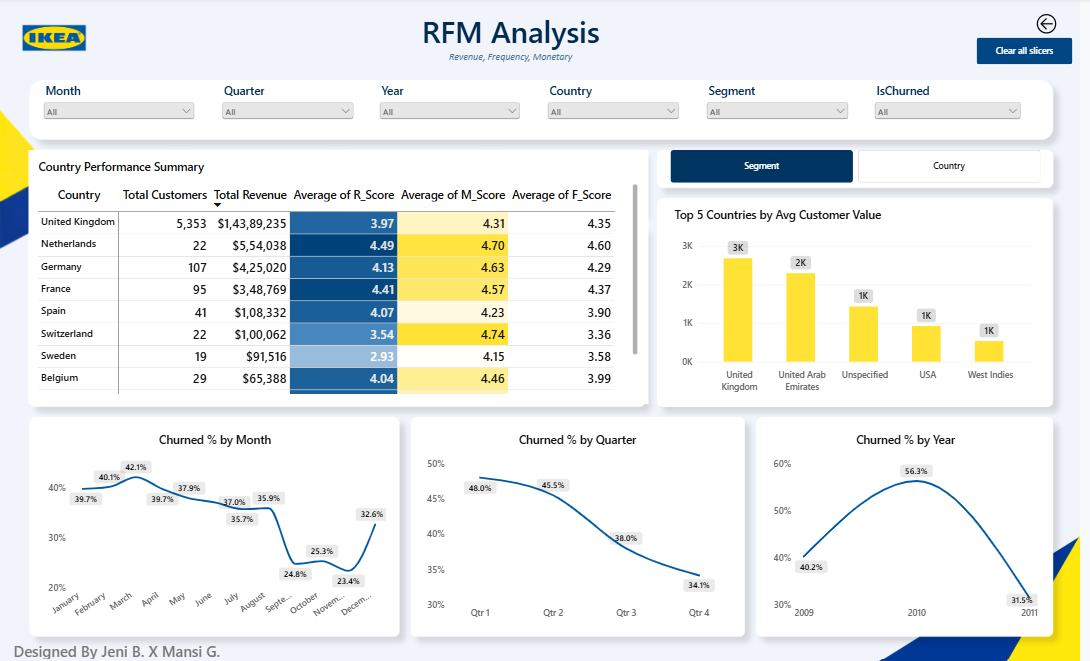

Layout of this report page (visuals, bound fields, positions):
{"tool":"powerbi","page":{"name":"RFM Analysis","canvas":[1940,1098],"ordinal":2},"visuals":[{"type":"slicer","fields":{"Values":["Sheet1.InvoiceDate.Variation.Date Hierarchy.Month"]},"box":[162.7,138.8,253.6,74.2],"z":0},{"type":"slicer","fields":{"Values":["Sheet1.InvoiceDate.Variation.Date Hierarchy.Year"]},"box":[706.8,138.8,236.9,74.2],"z":1000},{"type":"slicer","fields":{"Values":["Sheet1.InvoiceDate.Variation.Date Hierarchy.Quarter"]},"box":[450.3,138.8,222.5,74.2],"z":2000},{"type":"lineChart","fields":{"Category":["Sheet1.InvoiceMonth.Variation.Date Hierarchy.Year","Sheet1.InvoiceMonth.Variation.Date Hierarchy.Quarter","Sheet1.InvoiceMonth.Variation.Date Hierarchy.Month"],"Y":["Sheet1.Churned %"]},"box":[152.8,688.2,584.1,337.8],"z":2000,"group":"g1"},{"type":"slicer","fields":{"Values":["Sheet1.IsChurned"]},"box":[1507.3,138.8,246.4,74.2],"z":3000},{"type":"lineChart","fields":{"Category":["Sheet1.InvoiceMonth.Variation.Date Hierarchy.Quarter"],"Y":["Sheet1.Churned %"]},"box":[770.4,688.2,519.4,337.8],"z":3000,"group":"g1"},{"type":"slicer","fields":{"Values":["Sheet1.Segment"]},"box":[1234.1,138.8,239.3,74.2],"z":4000},{"type":"lineChart","fields":{"Category":["Sheet1.InvoiceMonth.Variation.Date Hierarchy.Year"],"Y":["Sheet1.Churned %"]},"box":[1330.5,688.2,459.6,337.8],"z":4000,"group":"g1"},{"type":"slicer","fields":{"Values":["Sheet1.Country"]},"box":[977.6,138.8,222.5,74.2],"z":5000},{"type":"group","id":"g1","title":"Revenue","box":[152.8,325,1637.3,701],"z":7000},{"type":"bookmarkNavigator","box":[1181.3,247.4,599.1,53.4],"z":8000},{"type":"textbox","box":[119.6,1040.8,373.2,43.1],"z":9000},{"type":"image","box":[105.3,21.5,160.3,88.5],"z":10000},{"type":"textbox","box":[646,21.5,555.1,88.5],"z":11000},{"type":"actionButton","box":[1739.4,21.5,100,40],"z":12000},{"type":"actionButton","box":[1676.1,65.5,155.2,43.7],"z":13000},{"type":"pivotTable","title":"Country Performance Summary","fields":{"Rows":["Sheet1.Country"],"Values":["Sheet1.Total Customers","Sheet1.Total Revenue","Avg(Sheet1.R_Score)","Avg(Sheet1.M_Score)","Avg(Sheet1.F_Score)"]},"box":[142.4,247.3,1001.7,409.7],"z":14000},{"type":"columnChart","title":"Top 5 Countries by Avg Customer Value","fields":{"Category":["Sheet1.Country"],"Y":["Sheet1.Avg Customer Value"]},"box":[1171.5,324.7,609.2,332.8],"z":17002},{"type":"columnChart","title":"Segment by Avg Customer Value","fields":{"Category":["Sheet1.Segment"],"Y":["Sheet1.Avg Customer Value"]},"box":[1172.5,325,609.2,332.8],"z":17002,"group":"g1"}]}

Visuals, with their boxes on the page's 1940x1098 design canvas (x1, y1, x2, y2). These are canvas units, not pixel positions in the 1090x661 screenshot, which may show the page scaled, cropped or inside an application window:
slicer - Sheet1.InvoiceDate.Variation.Date Hierarchy.Month: (x1=163, y1=139, x2=416, y2=213)
slicer - Sheet1.InvoiceDate.Variation.Date Hierarchy.Year: (x1=707, y1=139, x2=944, y2=213)
slicer - Sheet1.InvoiceDate.Variation.Date Hierarchy.Quarter: (x1=450, y1=139, x2=673, y2=213)
lineChart - Sheet1.InvoiceMonth.Variation.Date Hierarchy.Year x Sheet1.InvoiceMonth.Variation.Date Hierarchy.Quarter: (x1=153, y1=688, x2=737, y2=1026)
slicer - Sheet1.IsChurned: (x1=1507, y1=139, x2=1754, y2=213)
lineChart - Sheet1.InvoiceMonth.Variation.Date Hierarchy.Quarter x Sheet1.Churned %: (x1=770, y1=688, x2=1290, y2=1026)
slicer - Sheet1.Segment: (x1=1234, y1=139, x2=1473, y2=213)
lineChart - Sheet1.InvoiceMonth.Variation.Date Hierarchy.Year x Sheet1.Churned %: (x1=1330, y1=688, x2=1790, y2=1026)
slicer - Sheet1.Country: (x1=978, y1=139, x2=1200, y2=213)
"Revenue" group: (x1=153, y1=325, x2=1790, y2=1026)
bookmarkNavigator: (x1=1181, y1=247, x2=1780, y2=301)
textbox: (x1=120, y1=1041, x2=493, y2=1084)
image: (x1=105, y1=22, x2=266, y2=110)
textbox: (x1=646, y1=22, x2=1201, y2=110)
actionButton: (x1=1739, y1=22, x2=1839, y2=62)
actionButton: (x1=1676, y1=66, x2=1831, y2=109)
"Country Performance Summary" pivotTable: (x1=142, y1=247, x2=1144, y2=657)
"Top 5 Countries by Avg Customer Value" columnChart: (x1=1172, y1=325, x2=1781, y2=658)
"Segment by Avg Customer Value" columnChart: (x1=1172, y1=325, x2=1782, y2=658)
